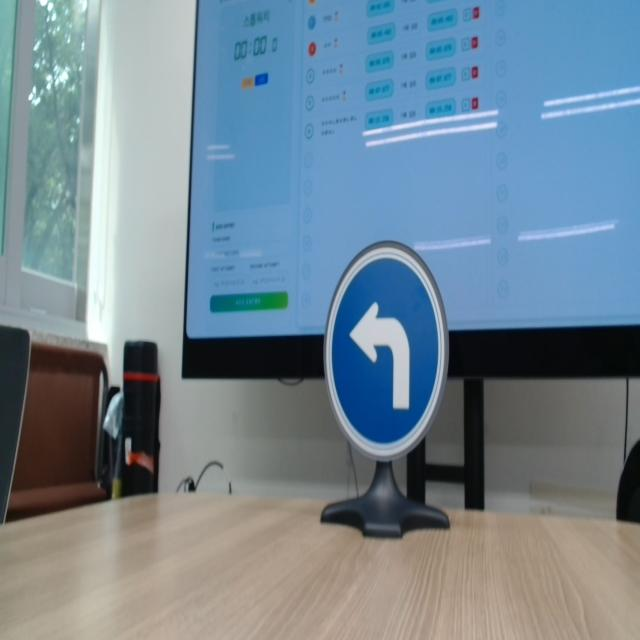left_direction: (320, 234, 458, 466)
